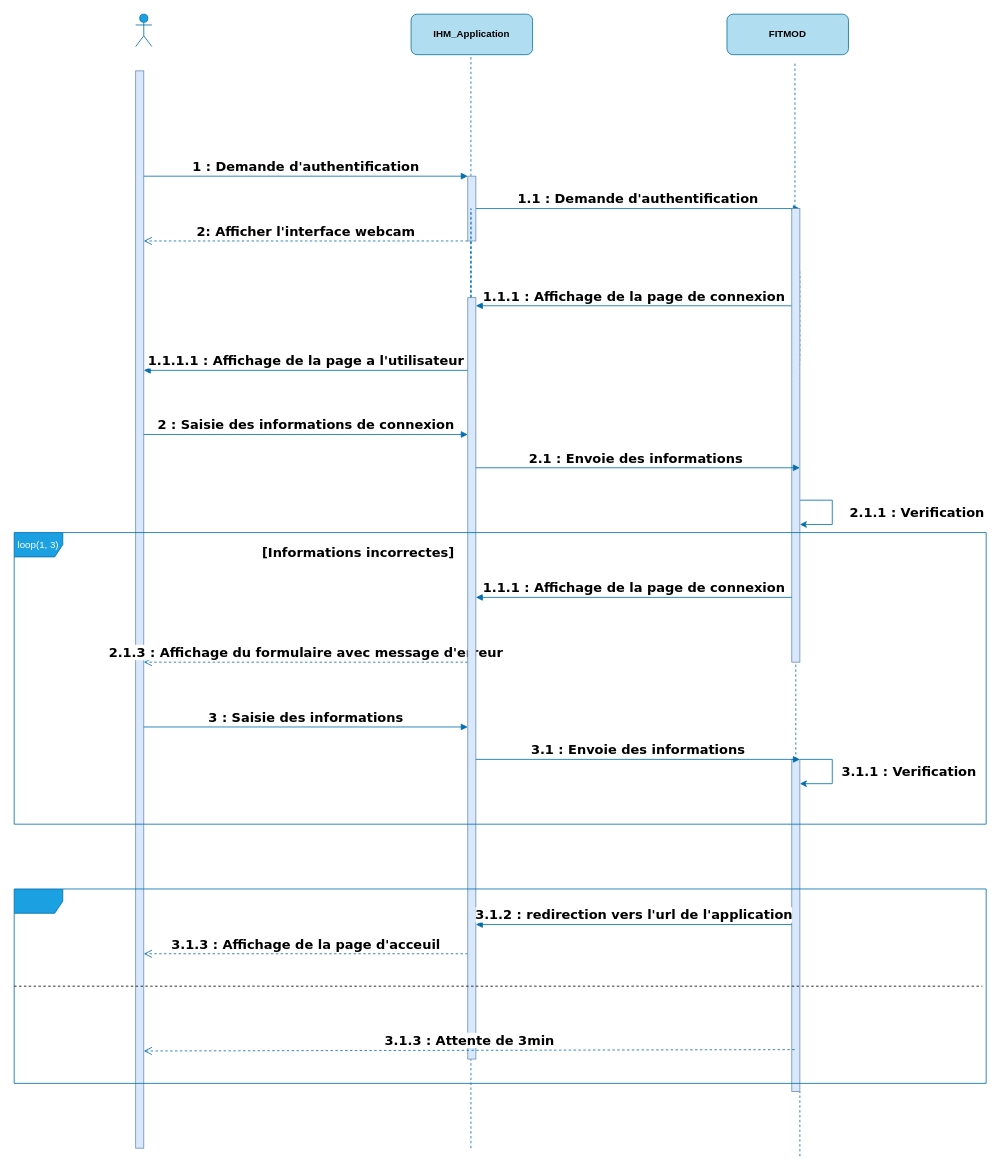
Some shapes in this 1000 by 1171 pixel diagram are drawn without their labels. The box of each missing label's shape, as (x1, y1, x2, y2) in pixels:
alt: (13, 888, 986, 1083)
Auteur: (135, 13, 152, 47)
